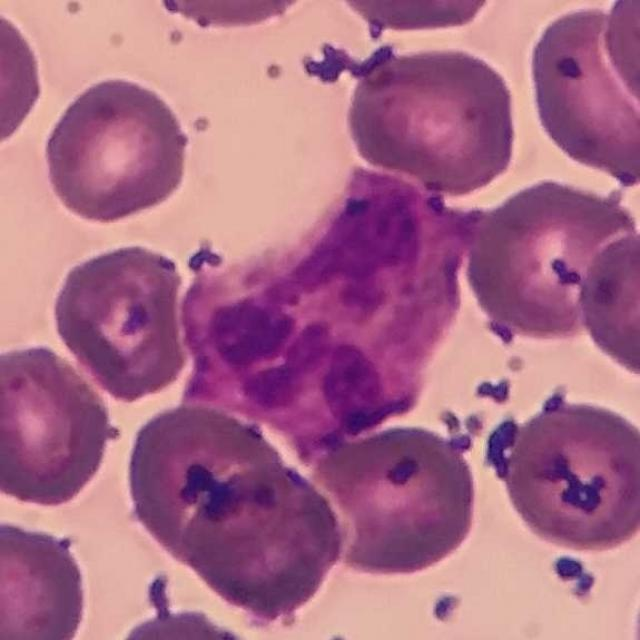Neutrophil: (186, 162, 491, 438)
Platelets: (302, 43, 352, 87), (548, 553, 596, 597), (428, 588, 466, 626), (472, 375, 515, 406), (628, 594, 640, 640), (321, 630, 356, 640)
RBC: (119, 400, 310, 573), (460, 174, 638, 345), (172, 454, 348, 625), (202, 318, 403, 464), (340, 39, 526, 195), (311, 415, 484, 582), (489, 386, 640, 557), (39, 72, 197, 226), (47, 237, 191, 403), (521, 2, 640, 189), (0, 338, 121, 510), (0, 512, 96, 640), (573, 226, 640, 383), (0, 2, 48, 156), (324, 0, 507, 37), (132, 0, 327, 33), (104, 604, 272, 640), (594, 0, 640, 129)
